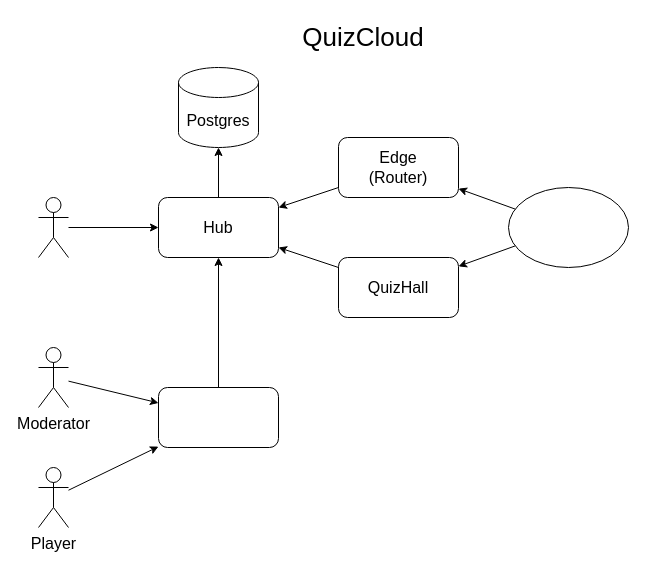
This 646x570 diagram has some shape labels left out. Here are the shapes that lost their labels. From the top down, the centre of each, then its label:
point 53,227: Admin
point 568,227: Host Device
point 218,417: QuizFace
